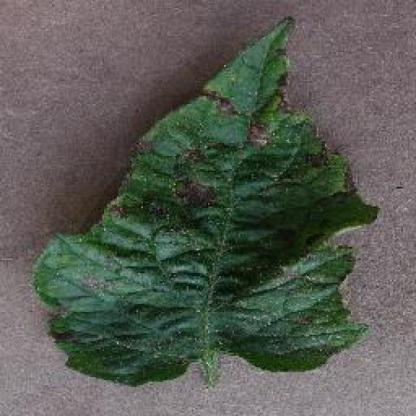Tomato_Blight: (34, 16, 384, 385)
